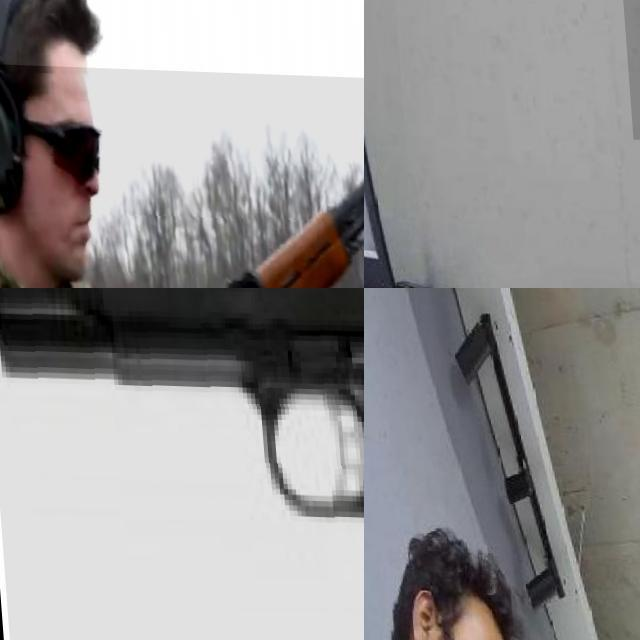gun-knife-thesis - v11 Yolov5 augmented: (0, 288, 364, 640), (0, 62, 364, 288)
